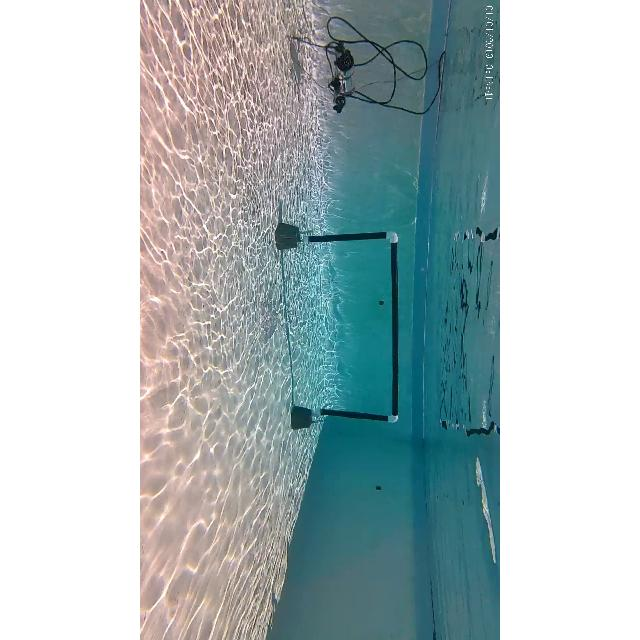prequal gate: (304, 232, 398, 426)
prequal gate leg l: (276, 220, 406, 250)
prequal gate leg r: (288, 400, 399, 428)
